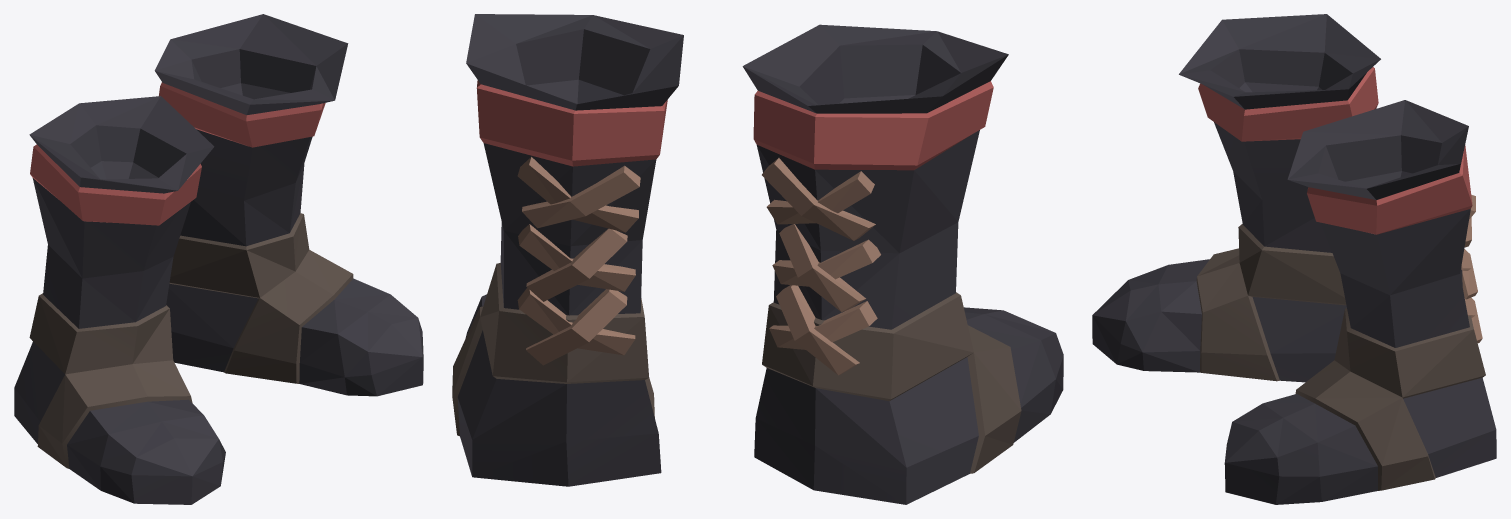
The model's file is bootsShadowDisplay.fbx.
The picture shows the model from 3 angles, left to right: view 1: azimuth 30°, elevation 25°; view 2: azimuth 150°, elevation 25°; view 3: azimuth 270°, elevation 25°; orthographic projection. The views are drawn at different scales.
Parts seen in each view (by area): view 1: bootsShadowDisplay; view 2: bootsShadowDisplay; view 3: bootsShadowDisplay.
Boxes of the visible parts, x1,y1,x2,y2 form: bootsShadowDisplay: [14, 14, 423, 504]; bootsShadowDisplay: [452, 14, 1063, 504]; bootsShadowDisplay: [1092, 14, 1496, 504].
Size of the model in its own units: 1.47 by 1.1 by 1.31.
1 material, 1 textured.
